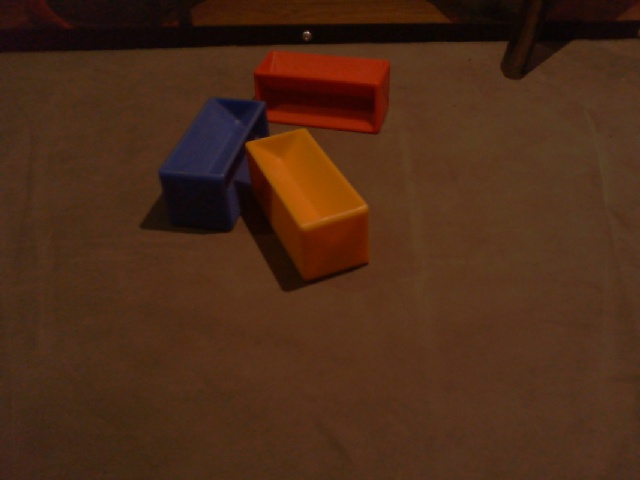BlueSample: (155, 95, 270, 233)
RedSample: (251, 49, 391, 136)
YellowSample: (242, 126, 375, 286)
